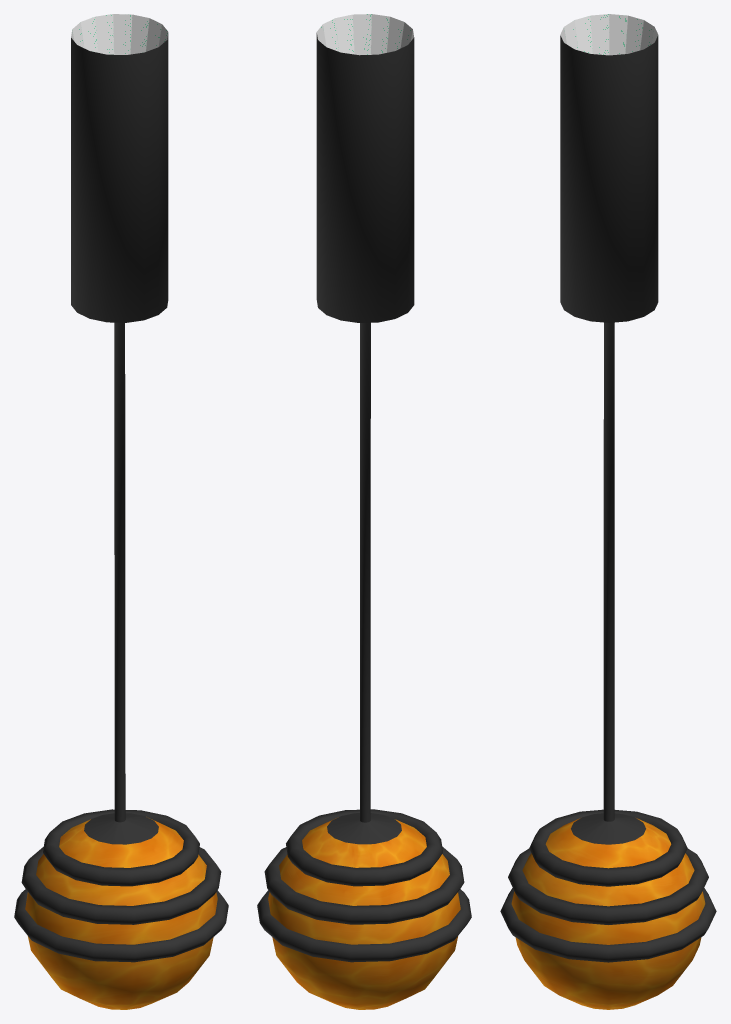
The model's file is CasinoLamp.fbx.
The picture shows the model from 3 angles, left to right: view 1: azimuth 30°, elevation 25°; view 2: azimuth 150°, elevation 25°; view 3: azimuth 270°, elevation 25°; orthographic projection.
Visible parts, largest first — view 1: CasinoLamp.004, CasinoLamp, CasinoLamp.003, CasinoLamp.002, CasinoLamp.001; view 2: CasinoLamp.004, CasinoLamp, CasinoLamp.003, CasinoLamp.002, CasinoLamp.001; view 3: CasinoLamp.004, CasinoLamp, CasinoLamp.003, CasinoLamp.002, CasinoLamp.001.
Part boxes in pixels (x1,y1,x2,y2): CasinoLamp.004: (71, 14, 168, 844); CasinoLamp: (25, 818, 217, 1009); CasinoLamp.003: (21, 847, 221, 924); CasinoLamp.002: (43, 809, 199, 886); CasinoLamp.001: (14, 889, 228, 962); CasinoLamp.004: (316, 14, 414, 844); CasinoLamp: (268, 817, 460, 1009); CasinoLamp.003: (264, 846, 464, 924); CasinoLamp.002: (286, 809, 442, 886); CasinoLamp.001: (257, 889, 471, 962); CasinoLamp.004: (560, 14, 658, 844); CasinoLamp: (511, 818, 705, 1009); CasinoLamp.003: (508, 848, 708, 924); CasinoLamp.002: (529, 809, 687, 886); CasinoLamp.001: (500, 888, 716, 962).
Bounding box in the file's own units: 22.82 × 22.82 × 112.
